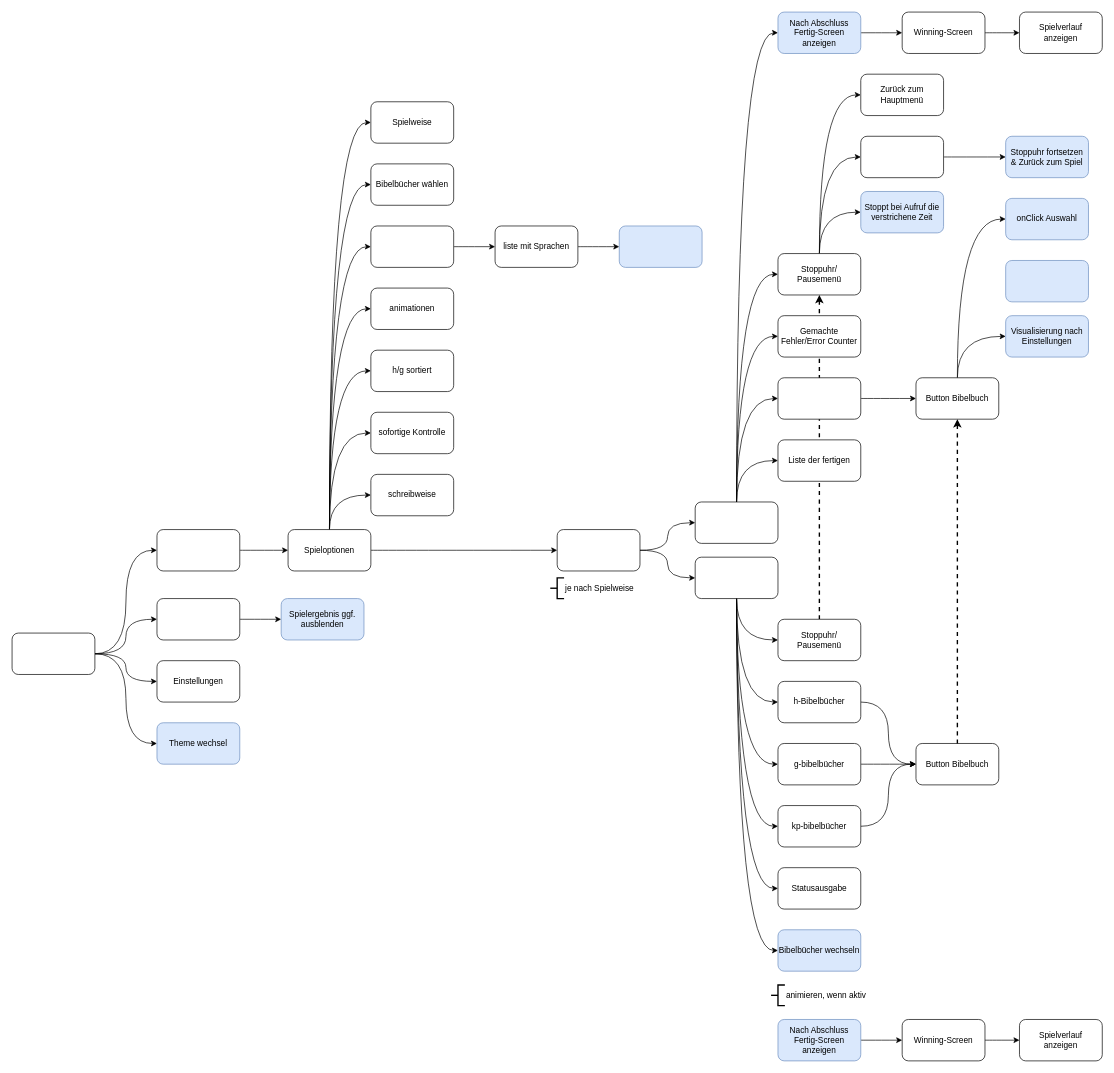
The diagram is 1114 pixels wide and 1073 high, and some of its shapes have lost their labels. Here are the shapes that lost their labels. From the top down, the centre of each, then its label:
At point 902,157: "Resume/Weiter spielen".
At point 412,246: "sprache".
At point 660,246: "Sprache setzen & zurück zu Spieloptionen".
At point 1046,281: "toggle selectable (für Sortierung)".
At point 819,398: "Liste zur Auswahl".
At point 736,522: "der Reihe nach".
At point 198,550: "neues Spiel".
At point 598,550: "Spielfeld".
At point 736,577: "sortieren".
At point 198,619: "Spielverlauf".
At point 53,653: "Startmenü".
